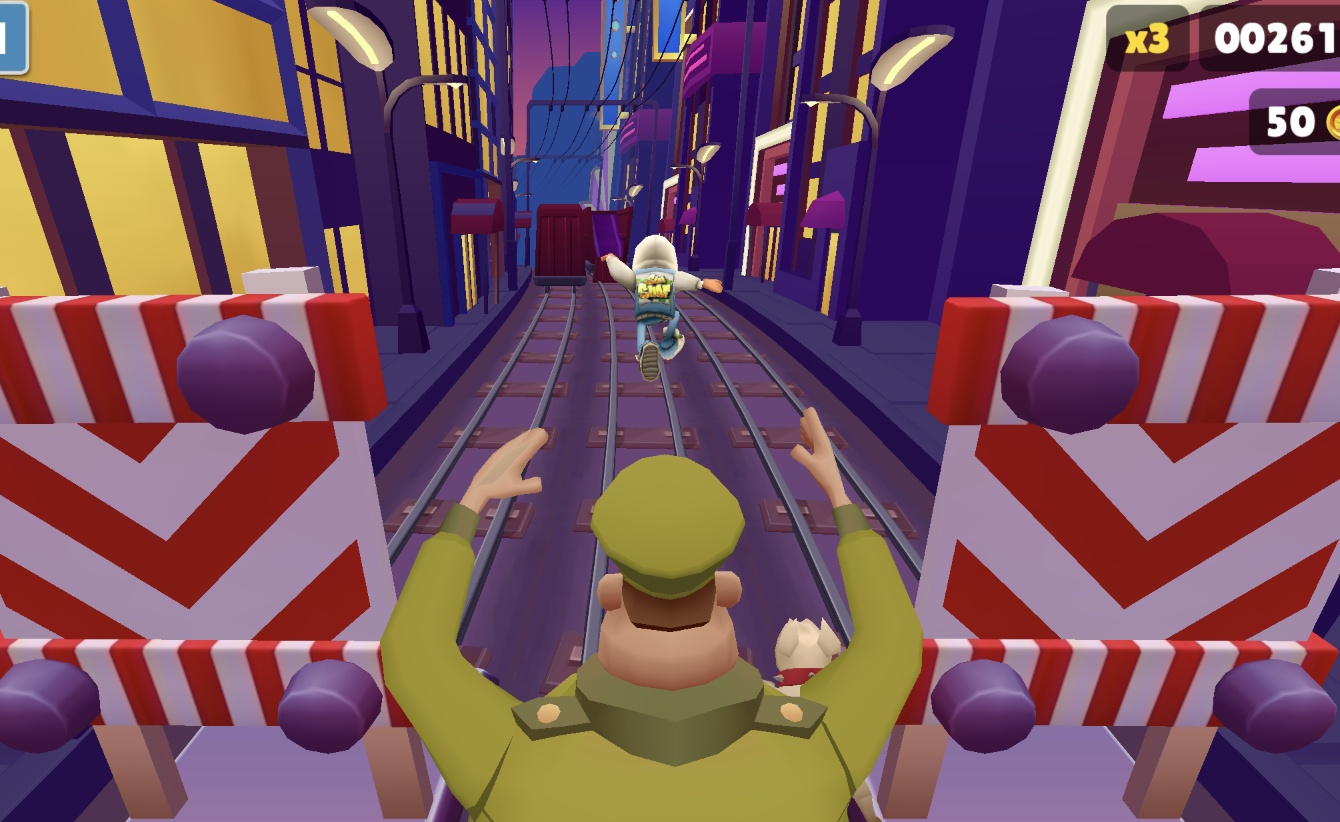overhead_barrier: (919, 288, 1340, 822), (0, 282, 408, 822)
train: (536, 201, 595, 288), (586, 209, 633, 286)
